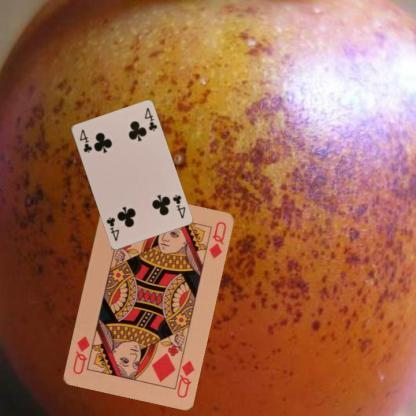4c: (170, 192, 186, 220), (77, 127, 93, 154)
Qd: (171, 353, 196, 399)
